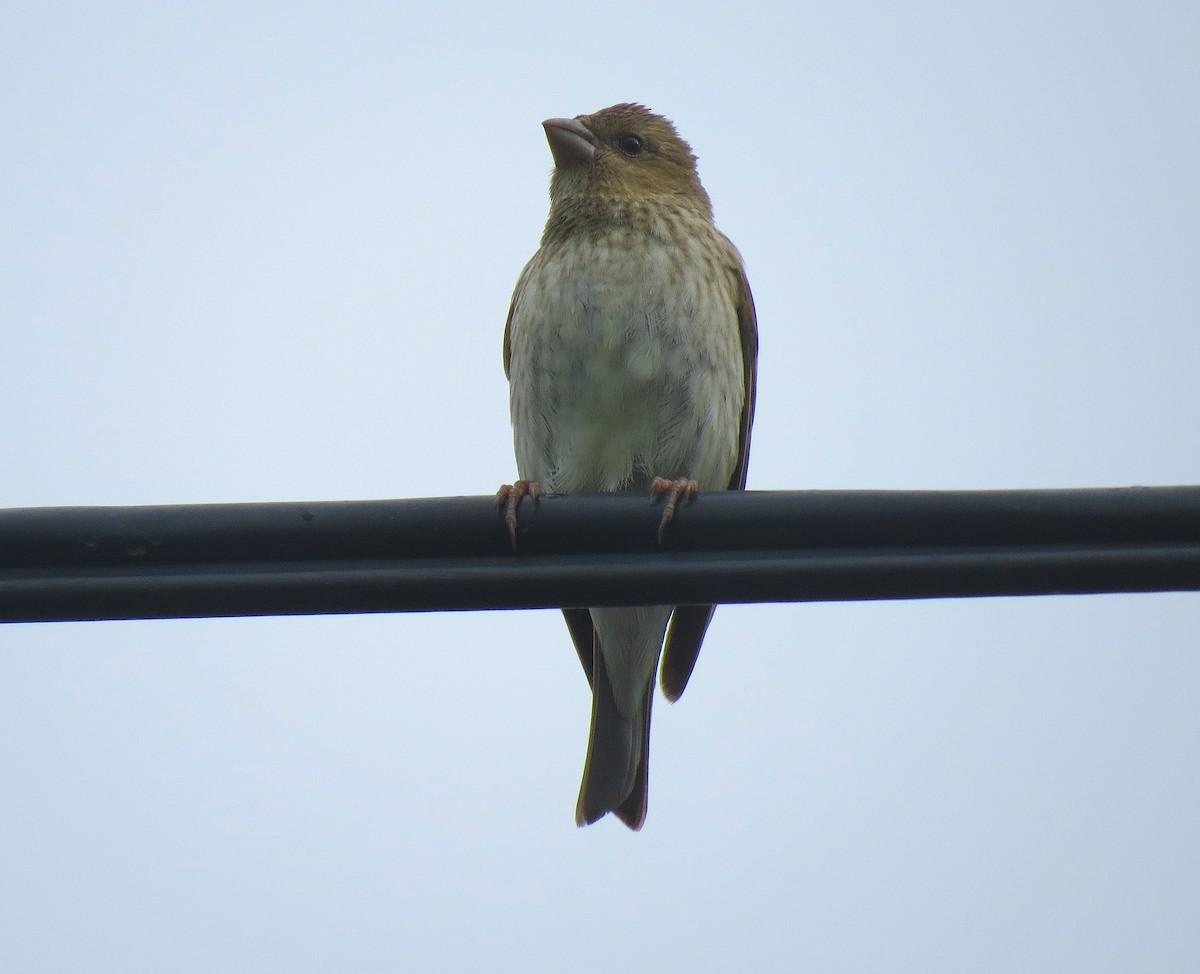rosefinch: (500, 99, 755, 794)
